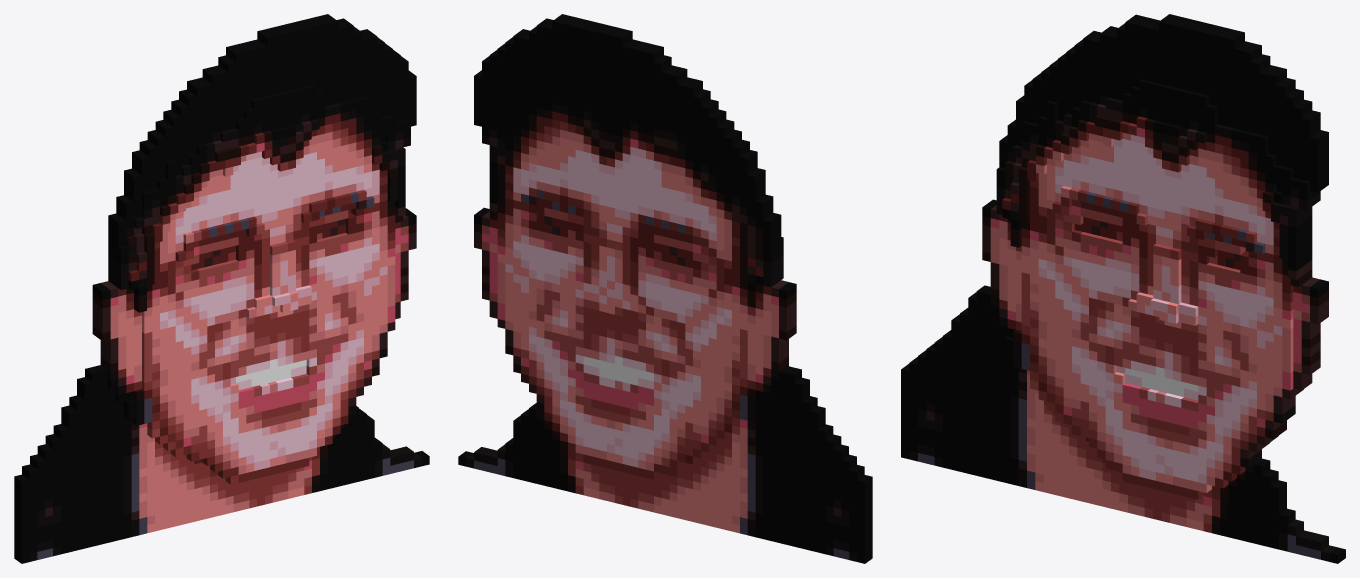
File: pixelEdit.glb
The picture shows the model from 3 angles, left to right: view 1: azimuth 30°, elevation 25°; view 2: azimuth 150°, elevation 25°; view 3: azimuth 330°, elevation 25°; orthographic projection. The views are drawn at different scales.
Visible parts, largest first — view 1: generated(Clone); view 2: generated(Clone); view 3: generated(Clone).
Part boxes in pixels (x1=…): generated(Clone): x1=14, y1=14, x2=429, y2=563; generated(Clone): x1=458, y1=14, x2=872, y2=563; generated(Clone): x1=901, y1=14, x2=1345, y2=563.
Size of the model in its own units: 104 by 114 by 7.7.
